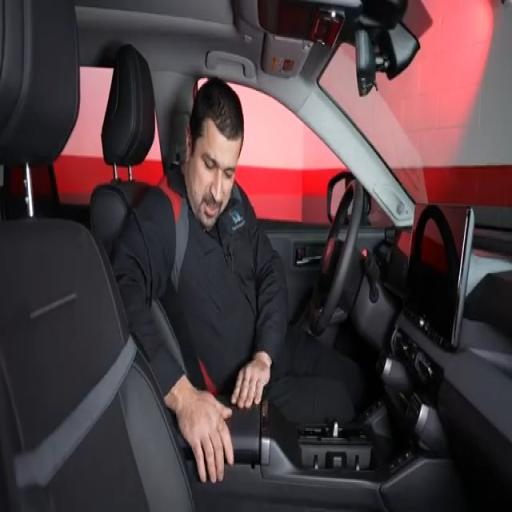side_mirror: (327, 171, 354, 223), (327, 171, 352, 223)
window: (230, 84, 346, 224), (232, 84, 346, 224)
windshield: (319, 0, 511, 206)
